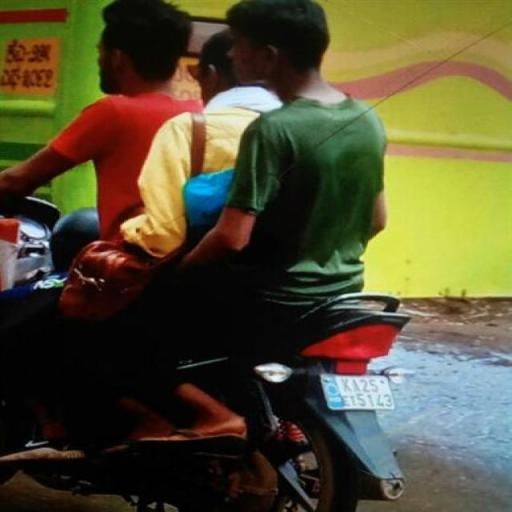tripple riding: (0, 0, 406, 349)
